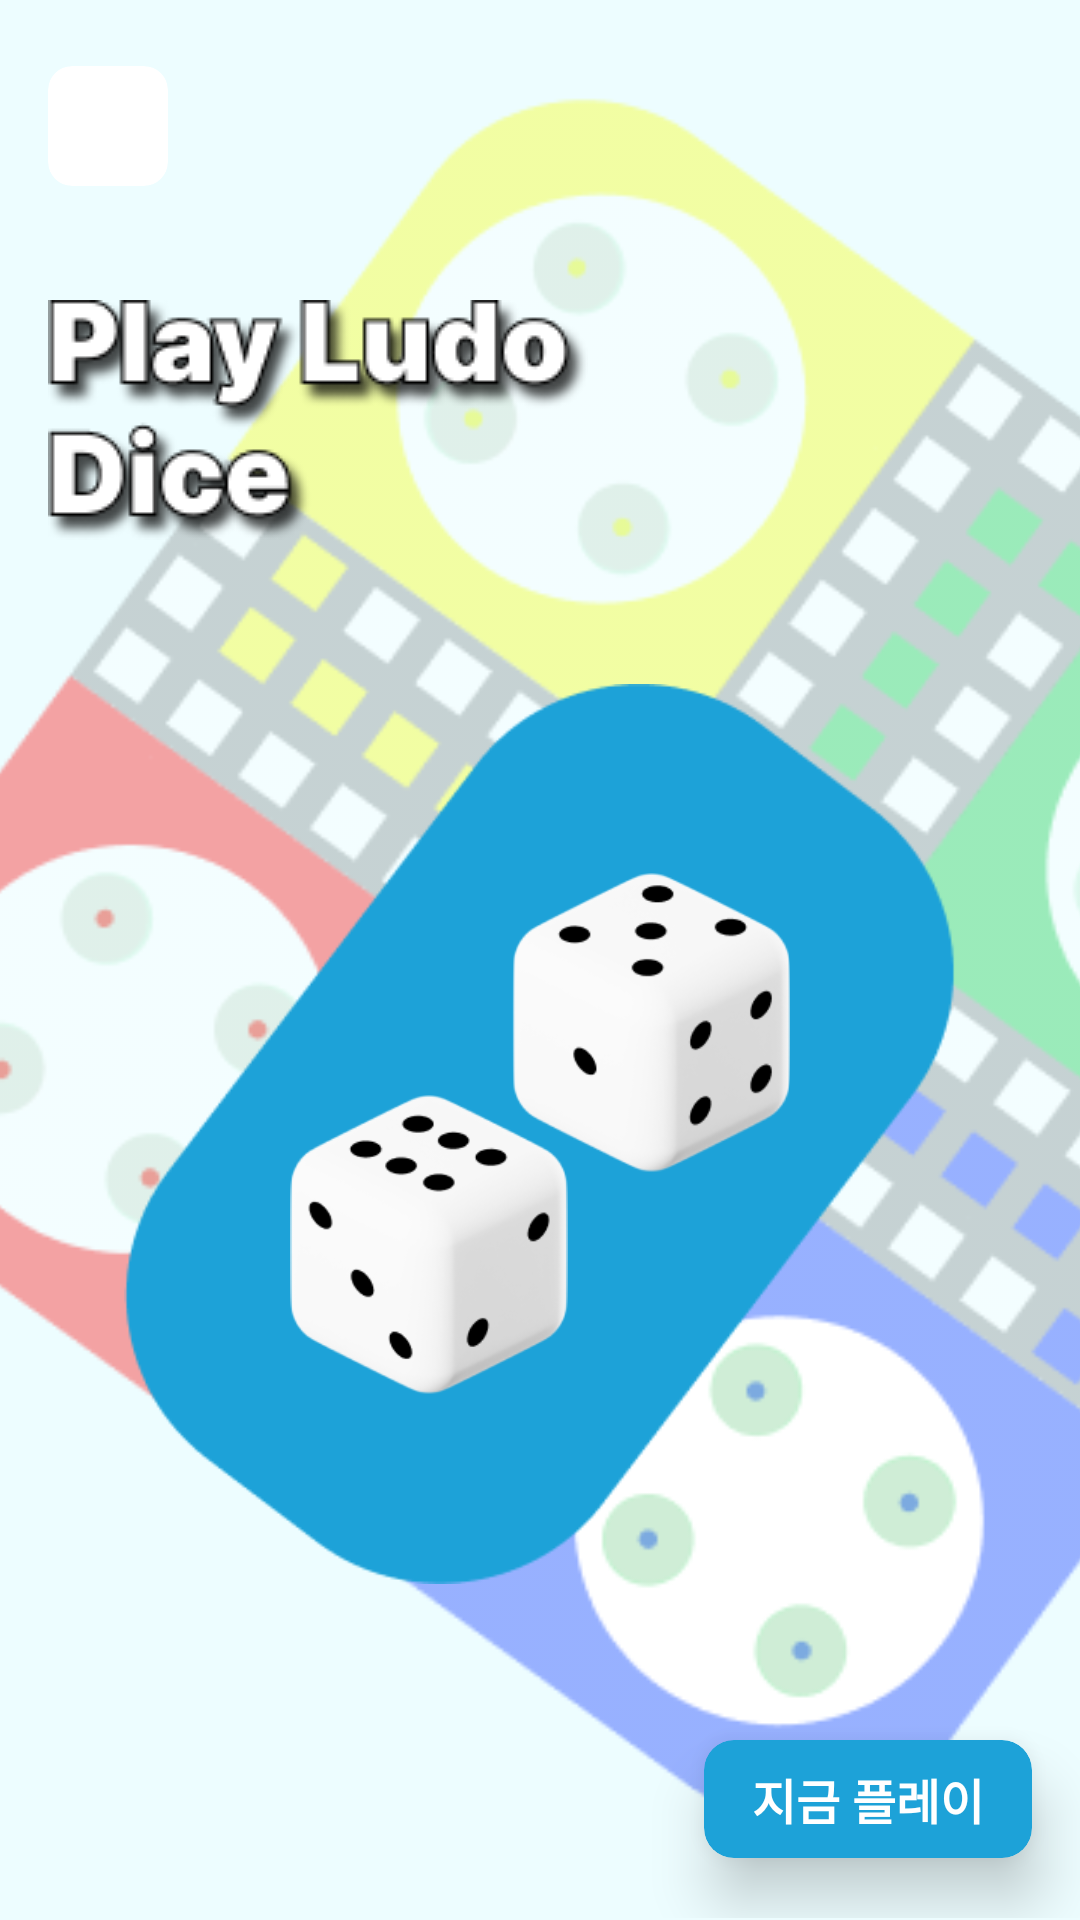

Icons on this 1080px×1920px Android screen, each with the point to tap as point (x, y):
dice: point (651, 1022), point (429, 1244)
